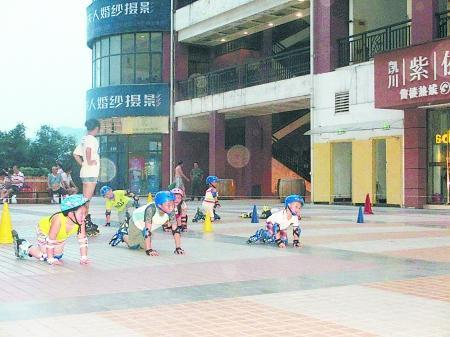Fall-Detected: (194, 169, 223, 223)
